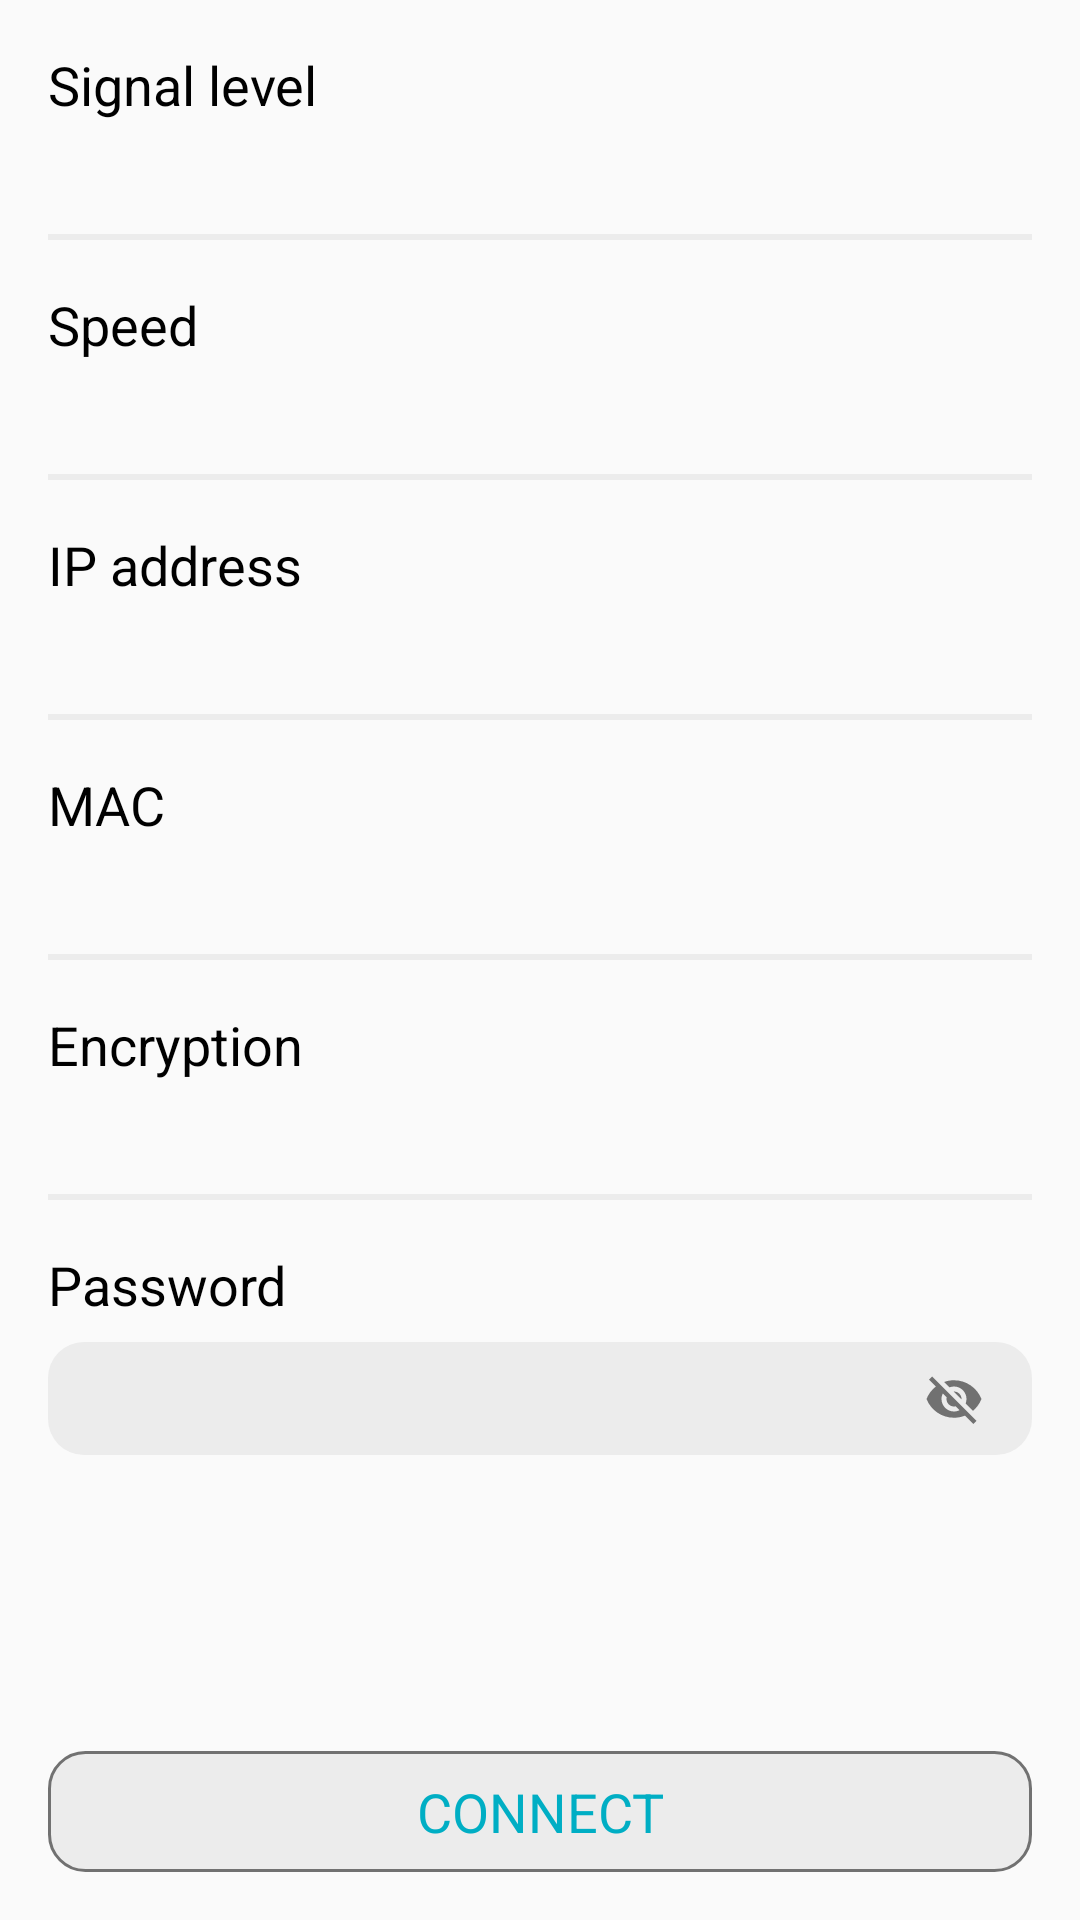

Screen size 1080 x 1920. Icon name, then its box in pixels as (x1, y1, x2, y2):
visibility off: (926, 1377, 982, 1424)
